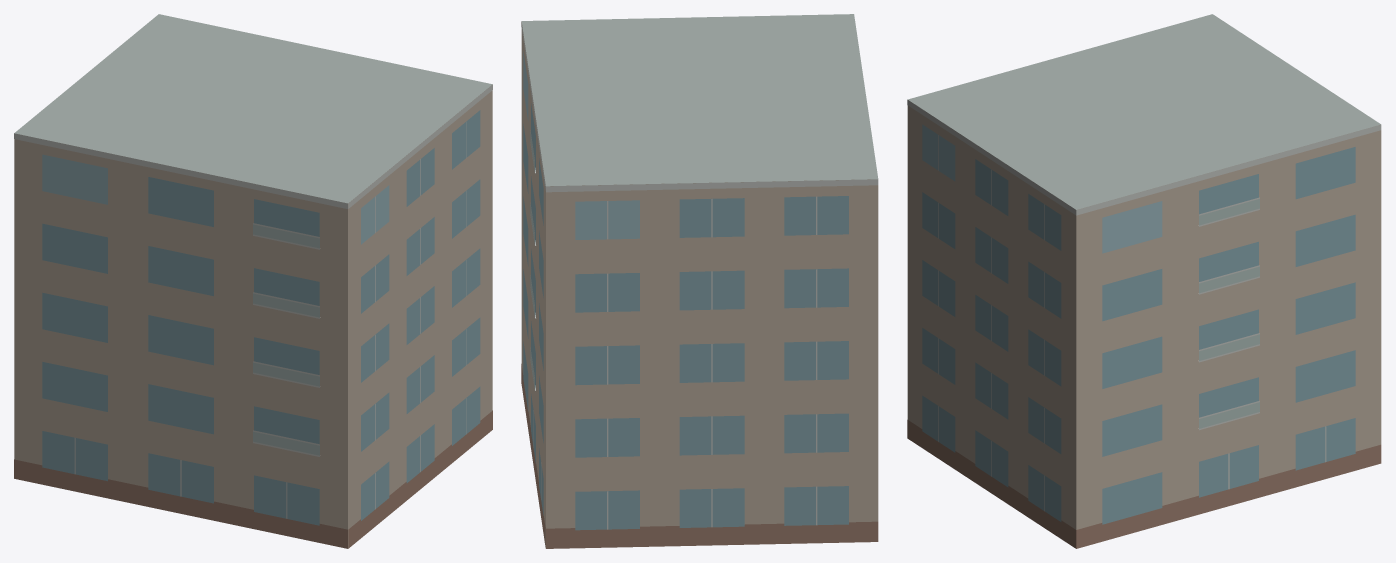
Rendered from survey-upis-32736453.glb.
The picture shows the model from 3 angles, left to right: view 1: azimuth 30°, elevation 25°; view 2: azimuth 150°, elevation 25°; view 3: azimuth 270°, elevation 25°; orthographic projection. The views are drawn at different scales.
Visible parts, largest first — view 1: survey-upis-32736453.tmp; view 2: survey-upis-32736453.tmp; view 3: survey-upis-32736453.tmp.
Boxes of the visible parts, x1,y1,x2,y2 form: survey-upis-32736453.tmp: (14, 14, 492, 548); survey-upis-32736453.tmp: (521, 14, 878, 548); survey-upis-32736453.tmp: (907, 14, 1381, 548).
Bounding box in the file's own units: 18.11 × 14.6 × 18.51.
